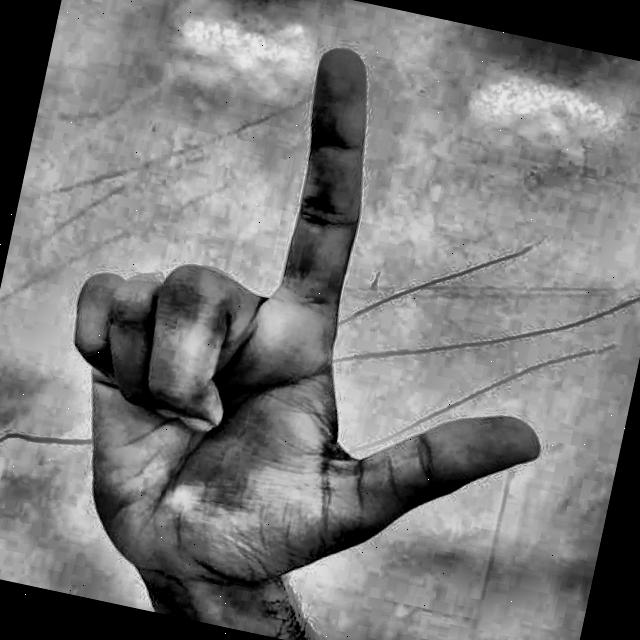La: (0, 0, 631, 640)
